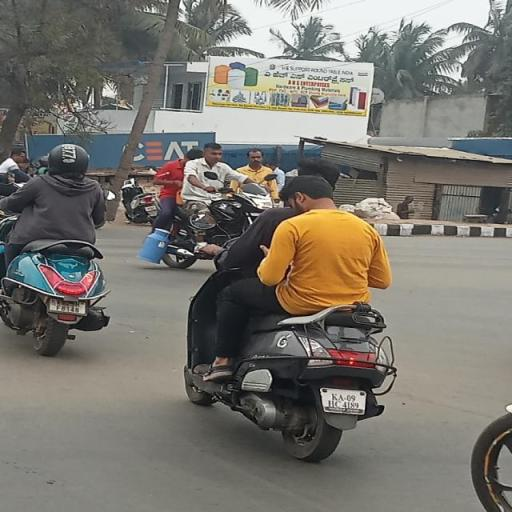bike: (179, 155, 417, 467)
numberplate: (320, 389, 369, 415)
withouthelmet: (285, 179, 333, 205), (302, 158, 342, 180)
